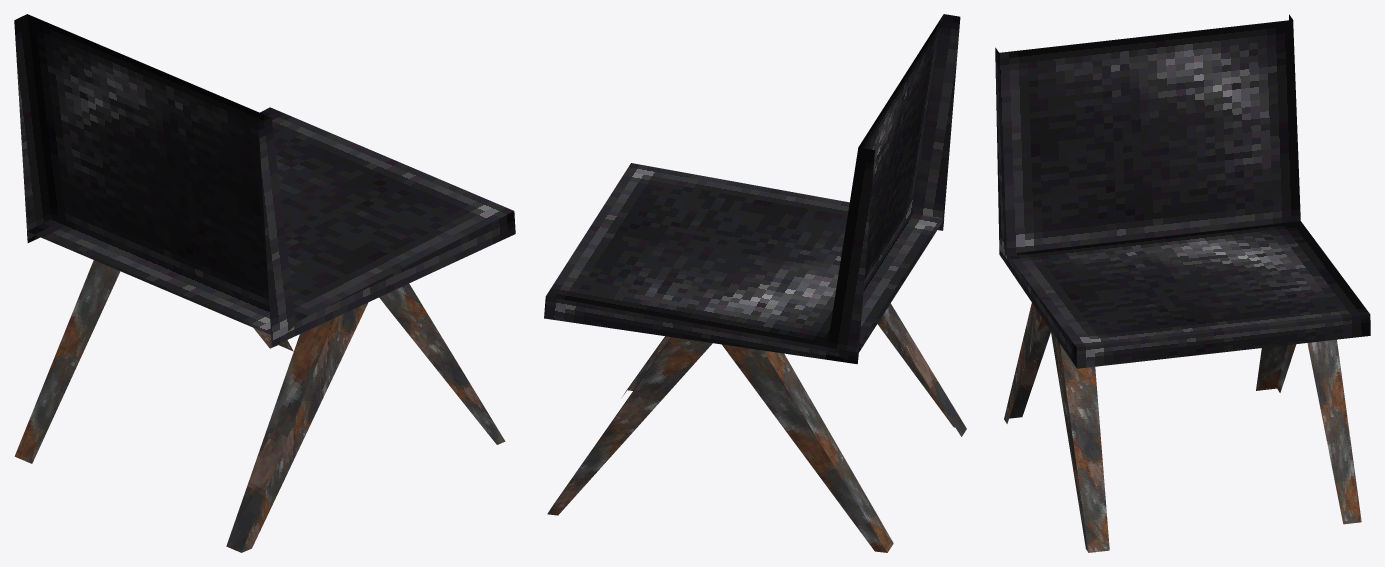
The model's file is primary_136.glb.
3 renders of one model, left to right at view 1: azimuth 30°, elevation 25°; view 2: azimuth 150°, elevation 25°; view 3: azimuth 270°, elevation 25°, orthographic. The views are drawn at different scales.
Parts seen in each view (by area): view 1: Object; view 2: Object; view 3: Object.
Boxes of the visible parts, box(x1,y1,x2,y2) form: Object: box(14, 14, 515, 552); Object: box(544, 14, 966, 552); Object: box(995, 14, 1370, 552).
Bounding box in the file's own units: 0.8403 × 0.8928 × 0.8038.
2 materials, 2 textured.
